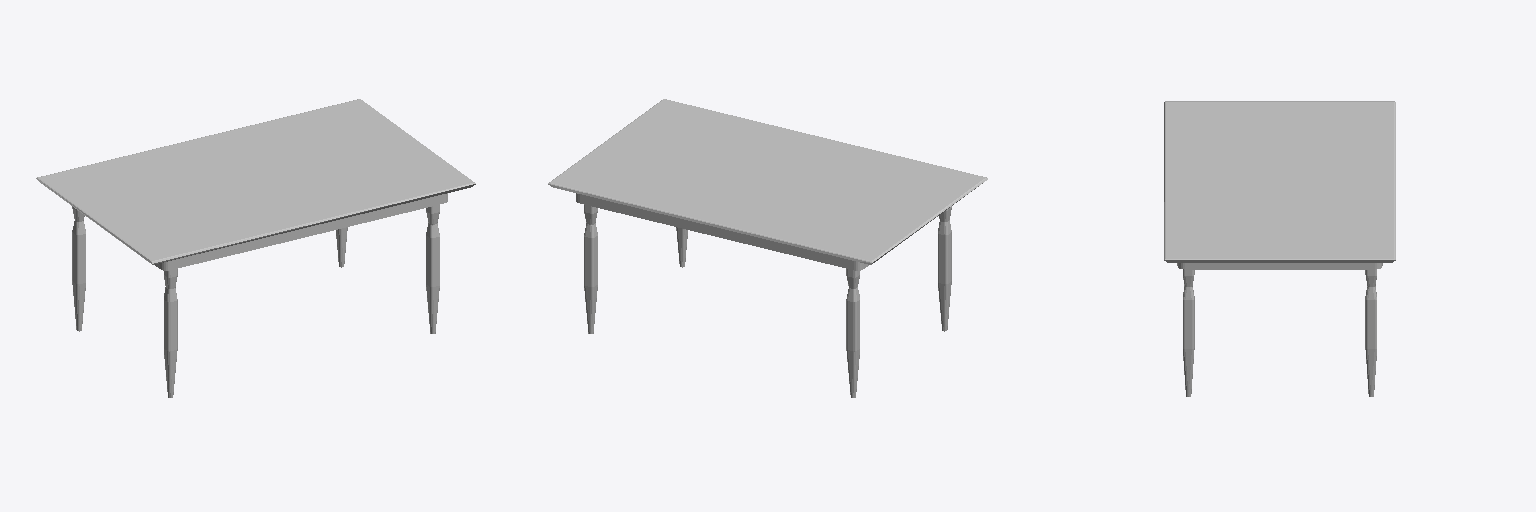
File: WoodenTable_TXT.obj
The picture shows the model from 3 angles: view 1: azimuth 30°, elevation 25°; view 2: azimuth 150°, elevation 25°; view 3: azimuth 270°, elevation 25°; orthographic projection.
Parts seen in each view (by area): view 1: Cube; view 2: Cube; view 3: Cube.
Boxes of the visible parts, box(x1,y1,x2,y2) form: Cube: box(36, 99, 475, 397); Cube: box(548, 99, 987, 397); Cube: box(1164, 101, 1395, 396).
Size of the model in its own units: 13.31 by 5.94 by 8.24.